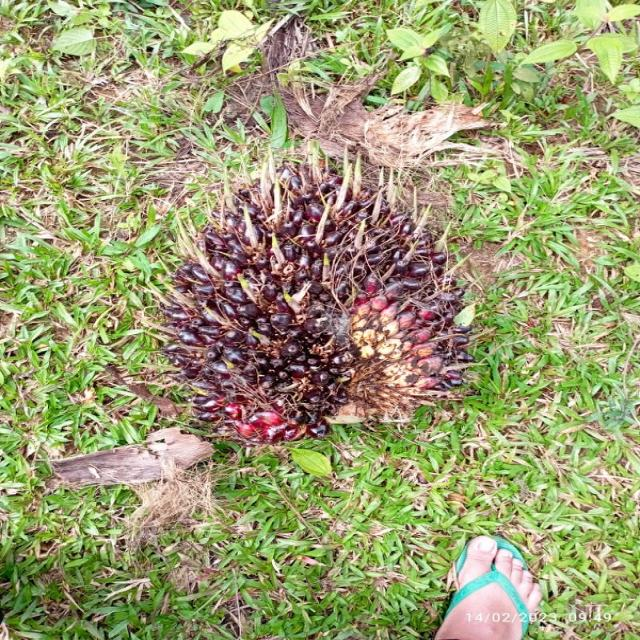fraksi 00: (154, 162, 475, 445)
